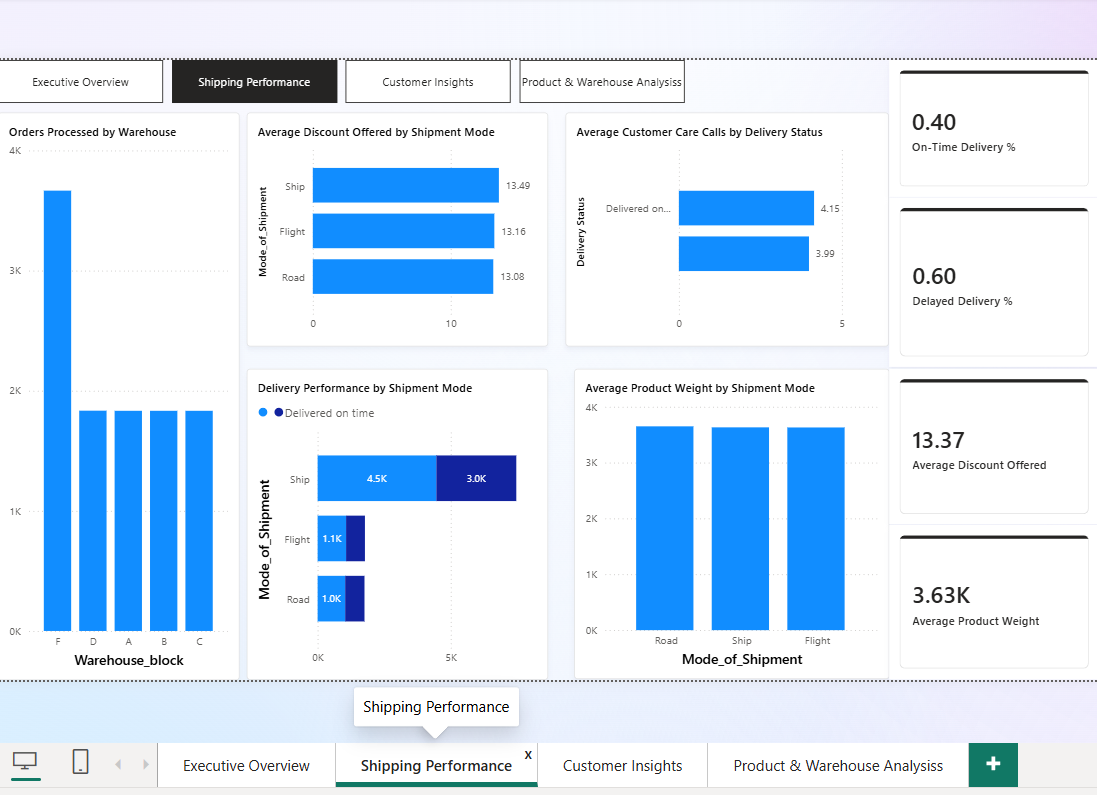

What the dashboard file says about the page in this screenshot:
{"tool":"powerbi","page":{"name":"Shipping Performance","canvas":[1280,720],"ordinal":1},"visuals":[{"type":"barChart","title":"Delivery Performance by Shipment Mode","fields":{"Category":["Ecommerce Shipping Data.Mode_of_Shipment"],"Y":["Ecommerce Shipping Data.Total Orders"],"Series":["Ecommerce Shipping Data.Delivery Status"]},"box":[289.2,358.9,350.2,361.9],"z":0},{"type":"clusteredColumnChart","title":"Orders Processed by Warehouse","fields":{"Category":["Ecommerce Shipping Data.Warehouse_block"],"Y":["Ecommerce Shipping Data.Total Orders"]},"box":[0,61,280.5,659.8],"z":1},{"type":"clusteredBarChart","title":"Average Discount Offered by Shipment Mode","fields":{"Category":["Ecommerce Shipping Data.Mode_of_Shipment"],"Y":["Ecommerce Shipping Data.Average Discount Offered"]},"box":[289.2,61,350.2,271.8],"z":2},{"type":"clusteredColumnChart","title":"Average Product Weight by Shipment Mode","fields":{"Category":["Ecommerce Shipping Data.Mode_of_Shipment"],"Y":["Ecommerce Shipping Data.Average Product Weight"]},"box":[669.6,359.5,366.4,360.9],"z":3},{"type":"clusteredBarChart","fields":{"Category":["Ecommerce Shipping Data.Delivery Status"],"Y":["Ecommerce Shipping Data.Average Customer Care Calls"]},"box":[659.8,61,376.4,271.8],"z":4},{"type":"cardVisual","fields":{"Data":["Ecommerce Shipping Data.On-Time Delivery %"]},"box":[1036,0,244.3,159.2],"z":5},{"type":"cardVisual","fields":{"Data":["Ecommerce Shipping Data.Delayed Delivery %"]},"box":[1036,159.2,244.3,197.6],"z":6},{"type":"cardVisual","fields":{"Data":["Ecommerce Shipping Data.Average Discount Offered"]},"box":[1036,359.5,244.3,181.1],"z":7},{"type":"cardVisual","fields":{"Data":["Ecommerce Shipping Data.Average Product Weight"]},"box":[1036,540.7,244.3,179.8],"z":8},{"type":"pageNavigator","box":[0,0,800,50],"z":9}]}

Visuals, with their boxes on the page's 1280x720 design canvas (x1, y1, x2, y2). These are canvas units, not pixel positions in the 1097x795 screenshot, which may show the page scaled, cropped or inside an application window:
"Delivery Performance by Shipment Mode" barChart: locate(289, 359, 639, 721)
"Orders Processed by Warehouse" clusteredColumnChart: locate(0, 61, 280, 721)
"Average Discount Offered by Shipment Mode" clusteredBarChart: locate(289, 61, 639, 333)
"Average Product Weight by Shipment Mode" clusteredColumnChart: locate(670, 360, 1036, 720)
clusteredBarChart - Ecommerce Shipping Data.Delivery Status x Ecommerce Shipping Data.Average Customer Care Calls: locate(660, 61, 1036, 333)
cardVisual - Ecommerce Shipping Data.On-Time Delivery %: locate(1036, 0, 1280, 159)
cardVisual - Ecommerce Shipping Data.Delayed Delivery %: locate(1036, 159, 1280, 357)
cardVisual - Ecommerce Shipping Data.Average Discount Offered: locate(1036, 360, 1280, 541)
cardVisual - Ecommerce Shipping Data.Average Product Weight: locate(1036, 541, 1280, 720)
pageNavigator: locate(0, 0, 800, 50)
